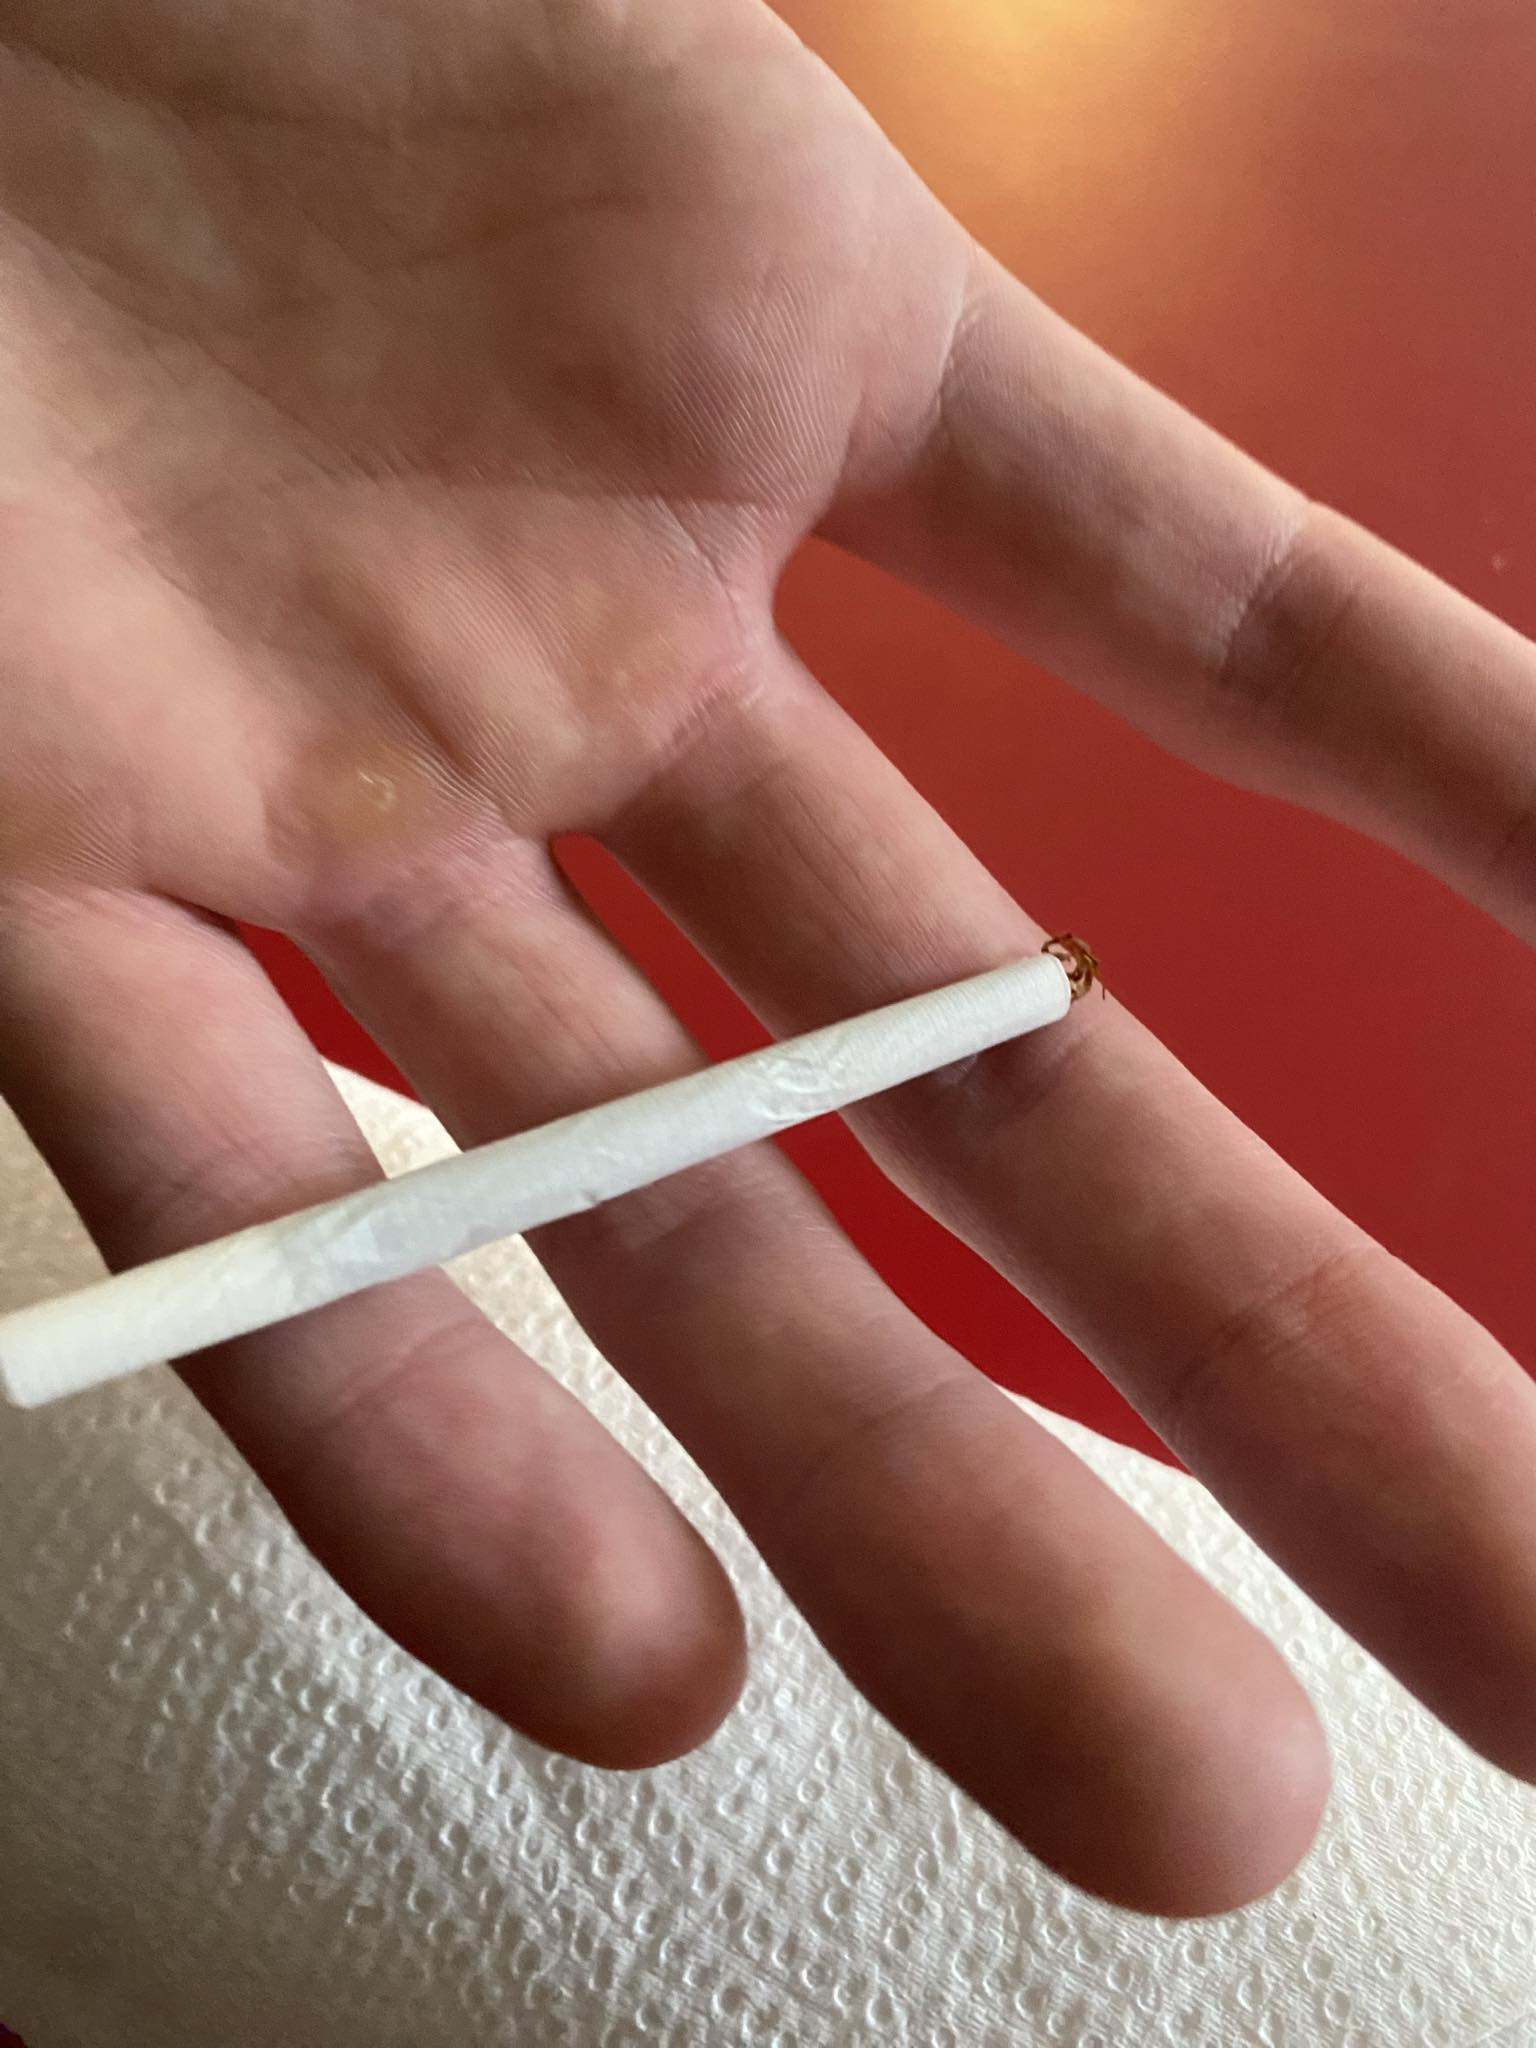Cigarette: (10, 945, 1078, 1417)
